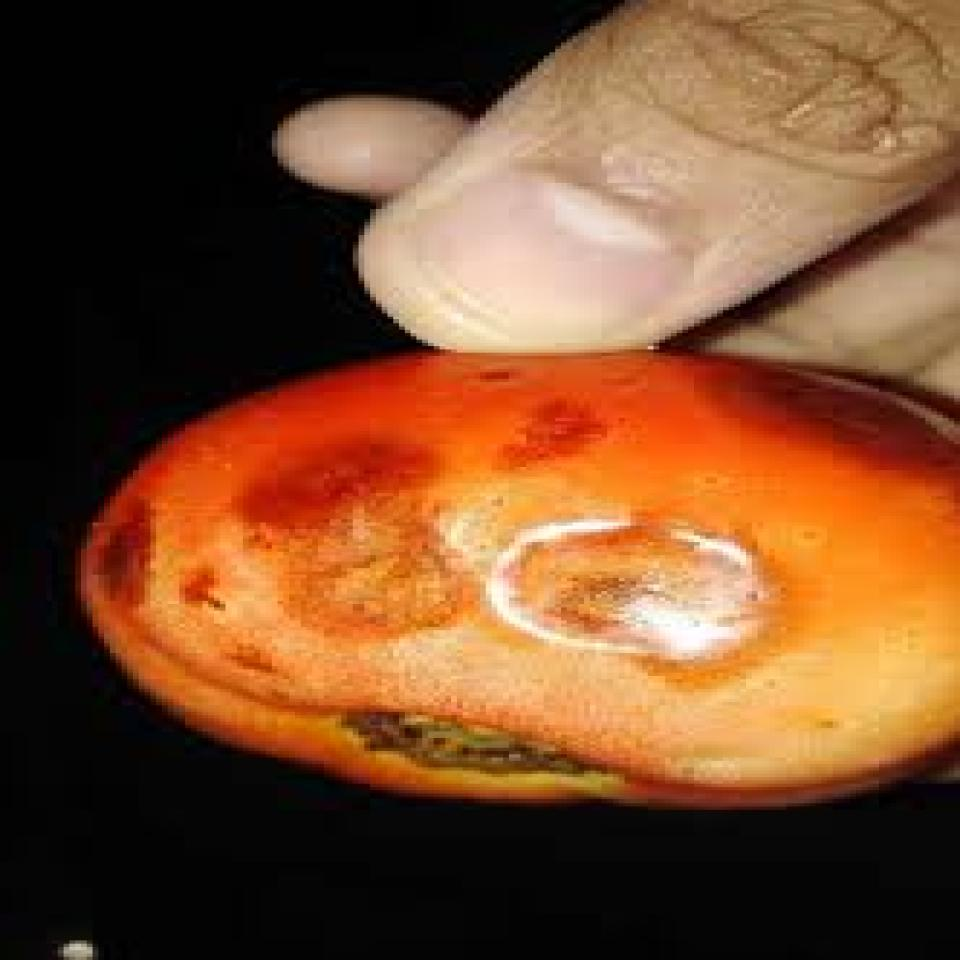Spotted wilt Virus: (75, 346, 960, 810)
